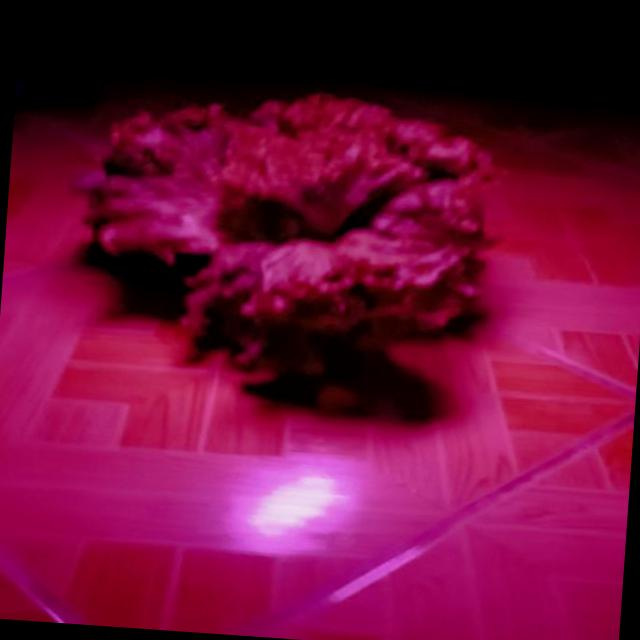Lettuce-Ready-to-Harvest: (75, 82, 500, 384)
